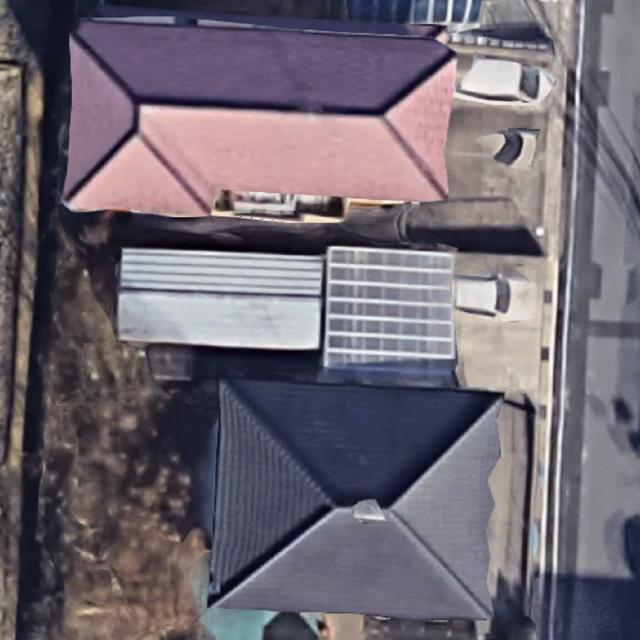Batiment: (64, 21, 455, 216), (211, 380, 502, 620), (117, 248, 324, 349), (324, 246, 455, 368)
